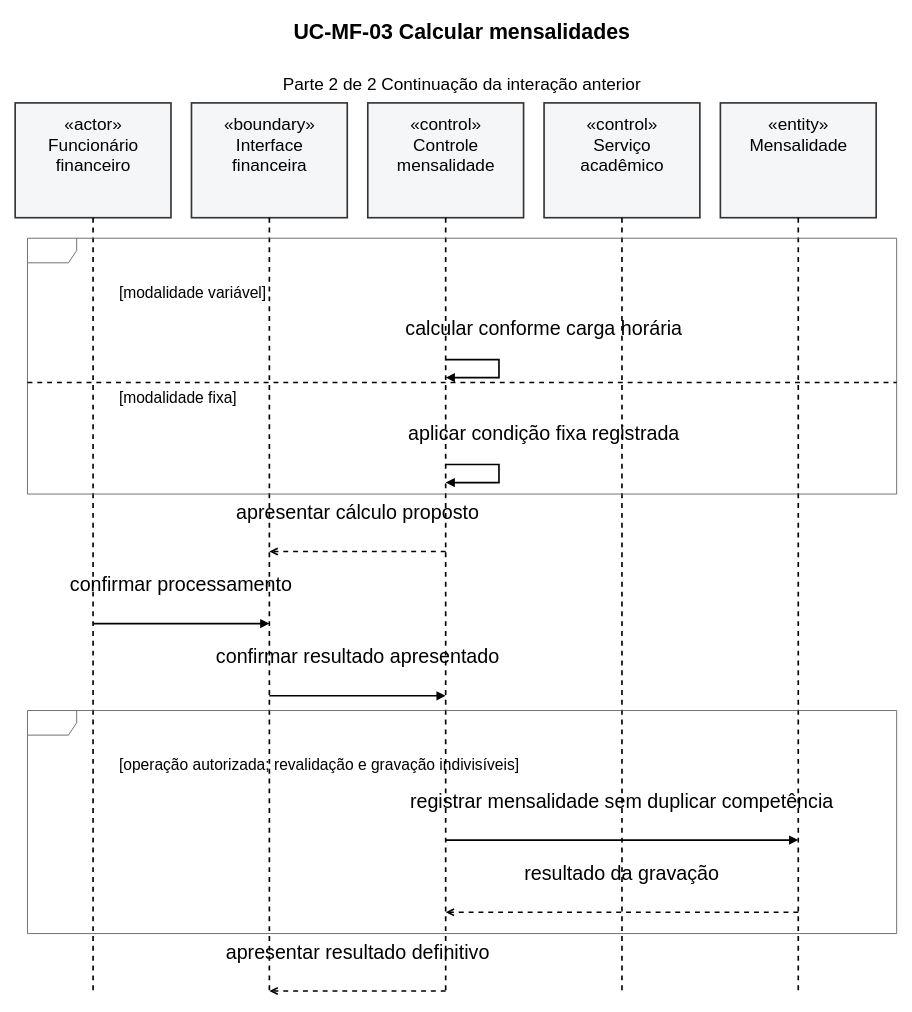
This 912x1012 diagram has some shape labels left out. The box of each missing label's shape, as (x1, y1, x2, y2) in pixels:
alt: (27, 237, 897, 494)
critical: (27, 710, 897, 934)
